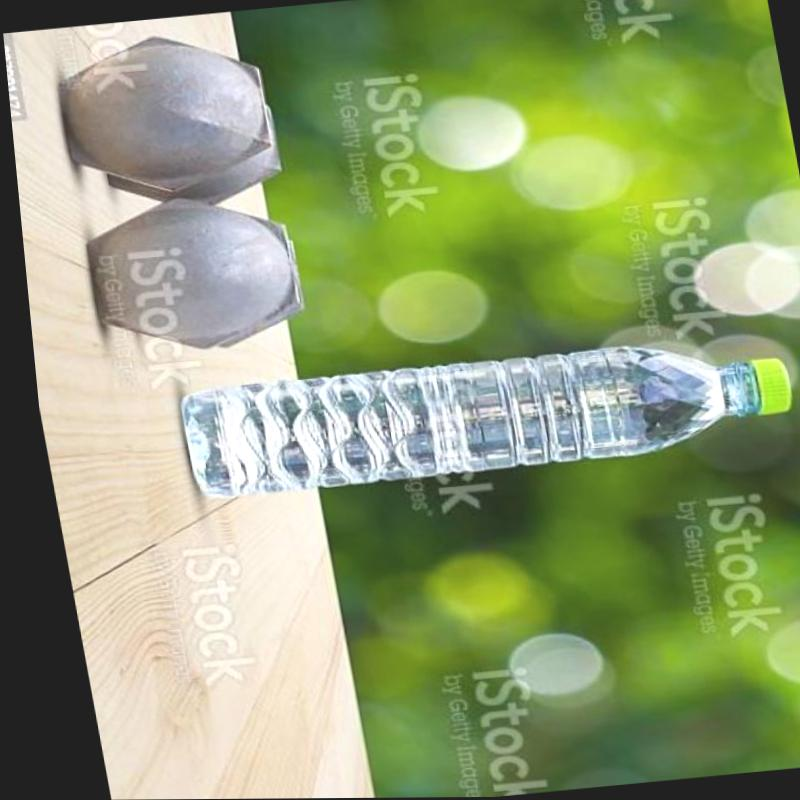botella: (166, 329, 797, 506)
